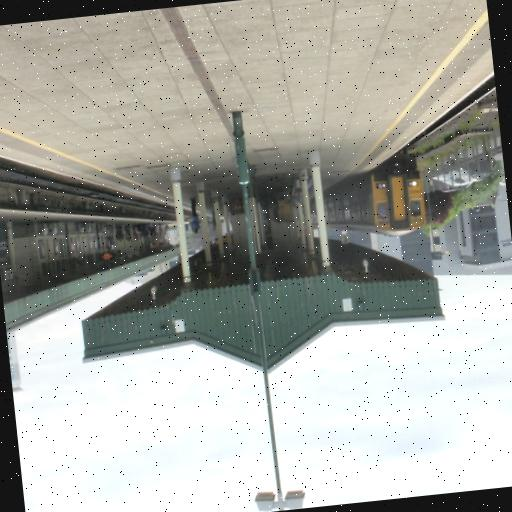platform_edge: (324, 0, 503, 170)
